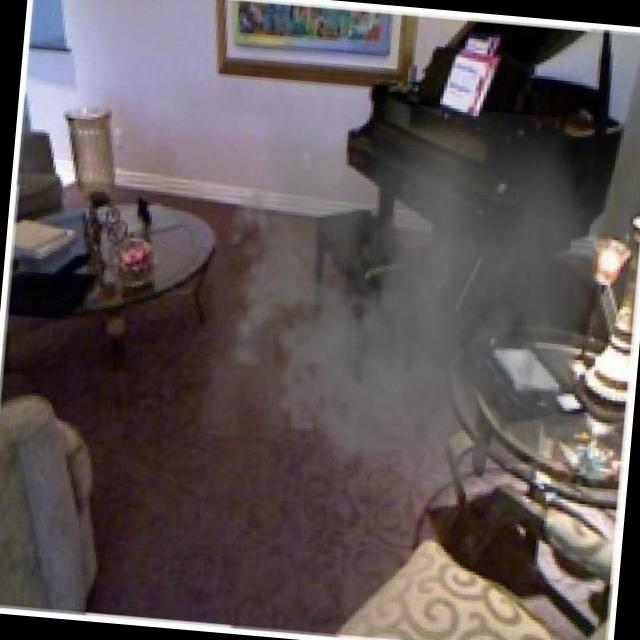Smoke: (193, 88, 624, 536)
